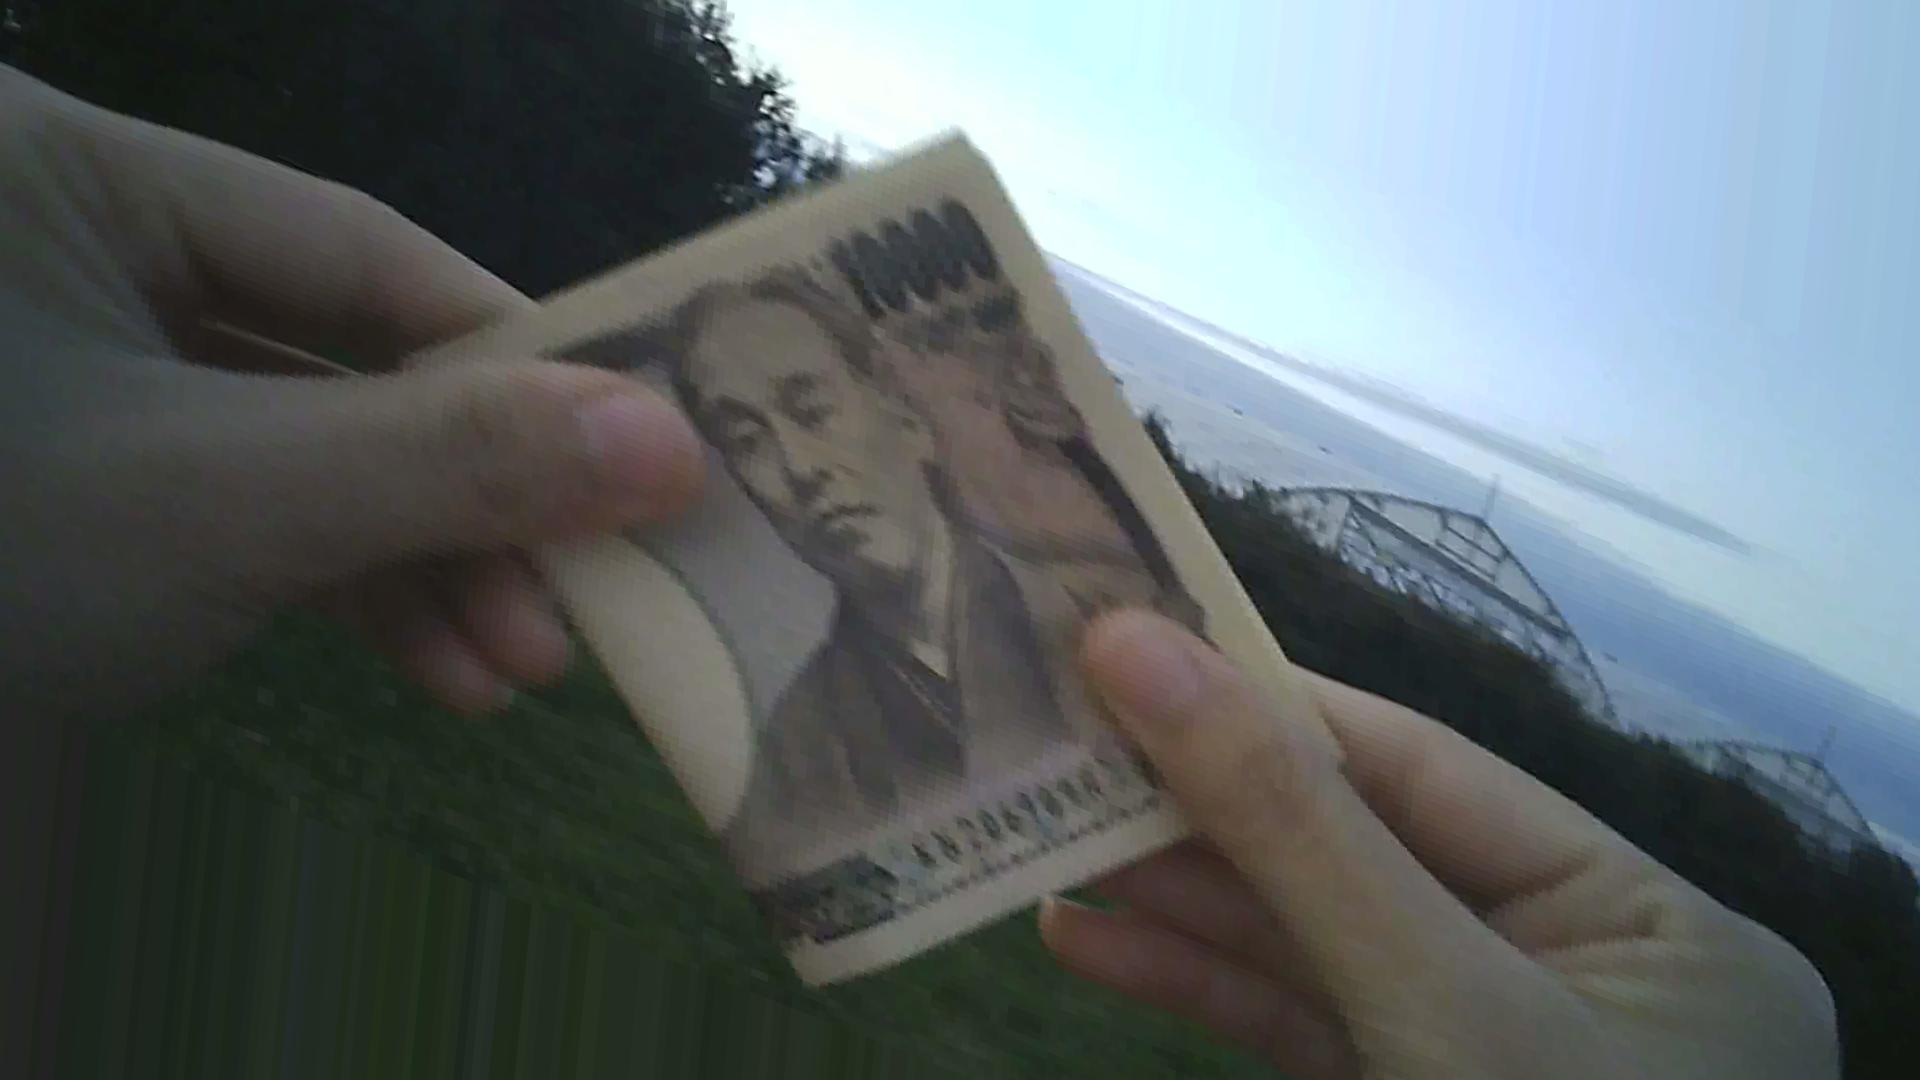10,000 Yen: (392, 149, 1302, 1017)
